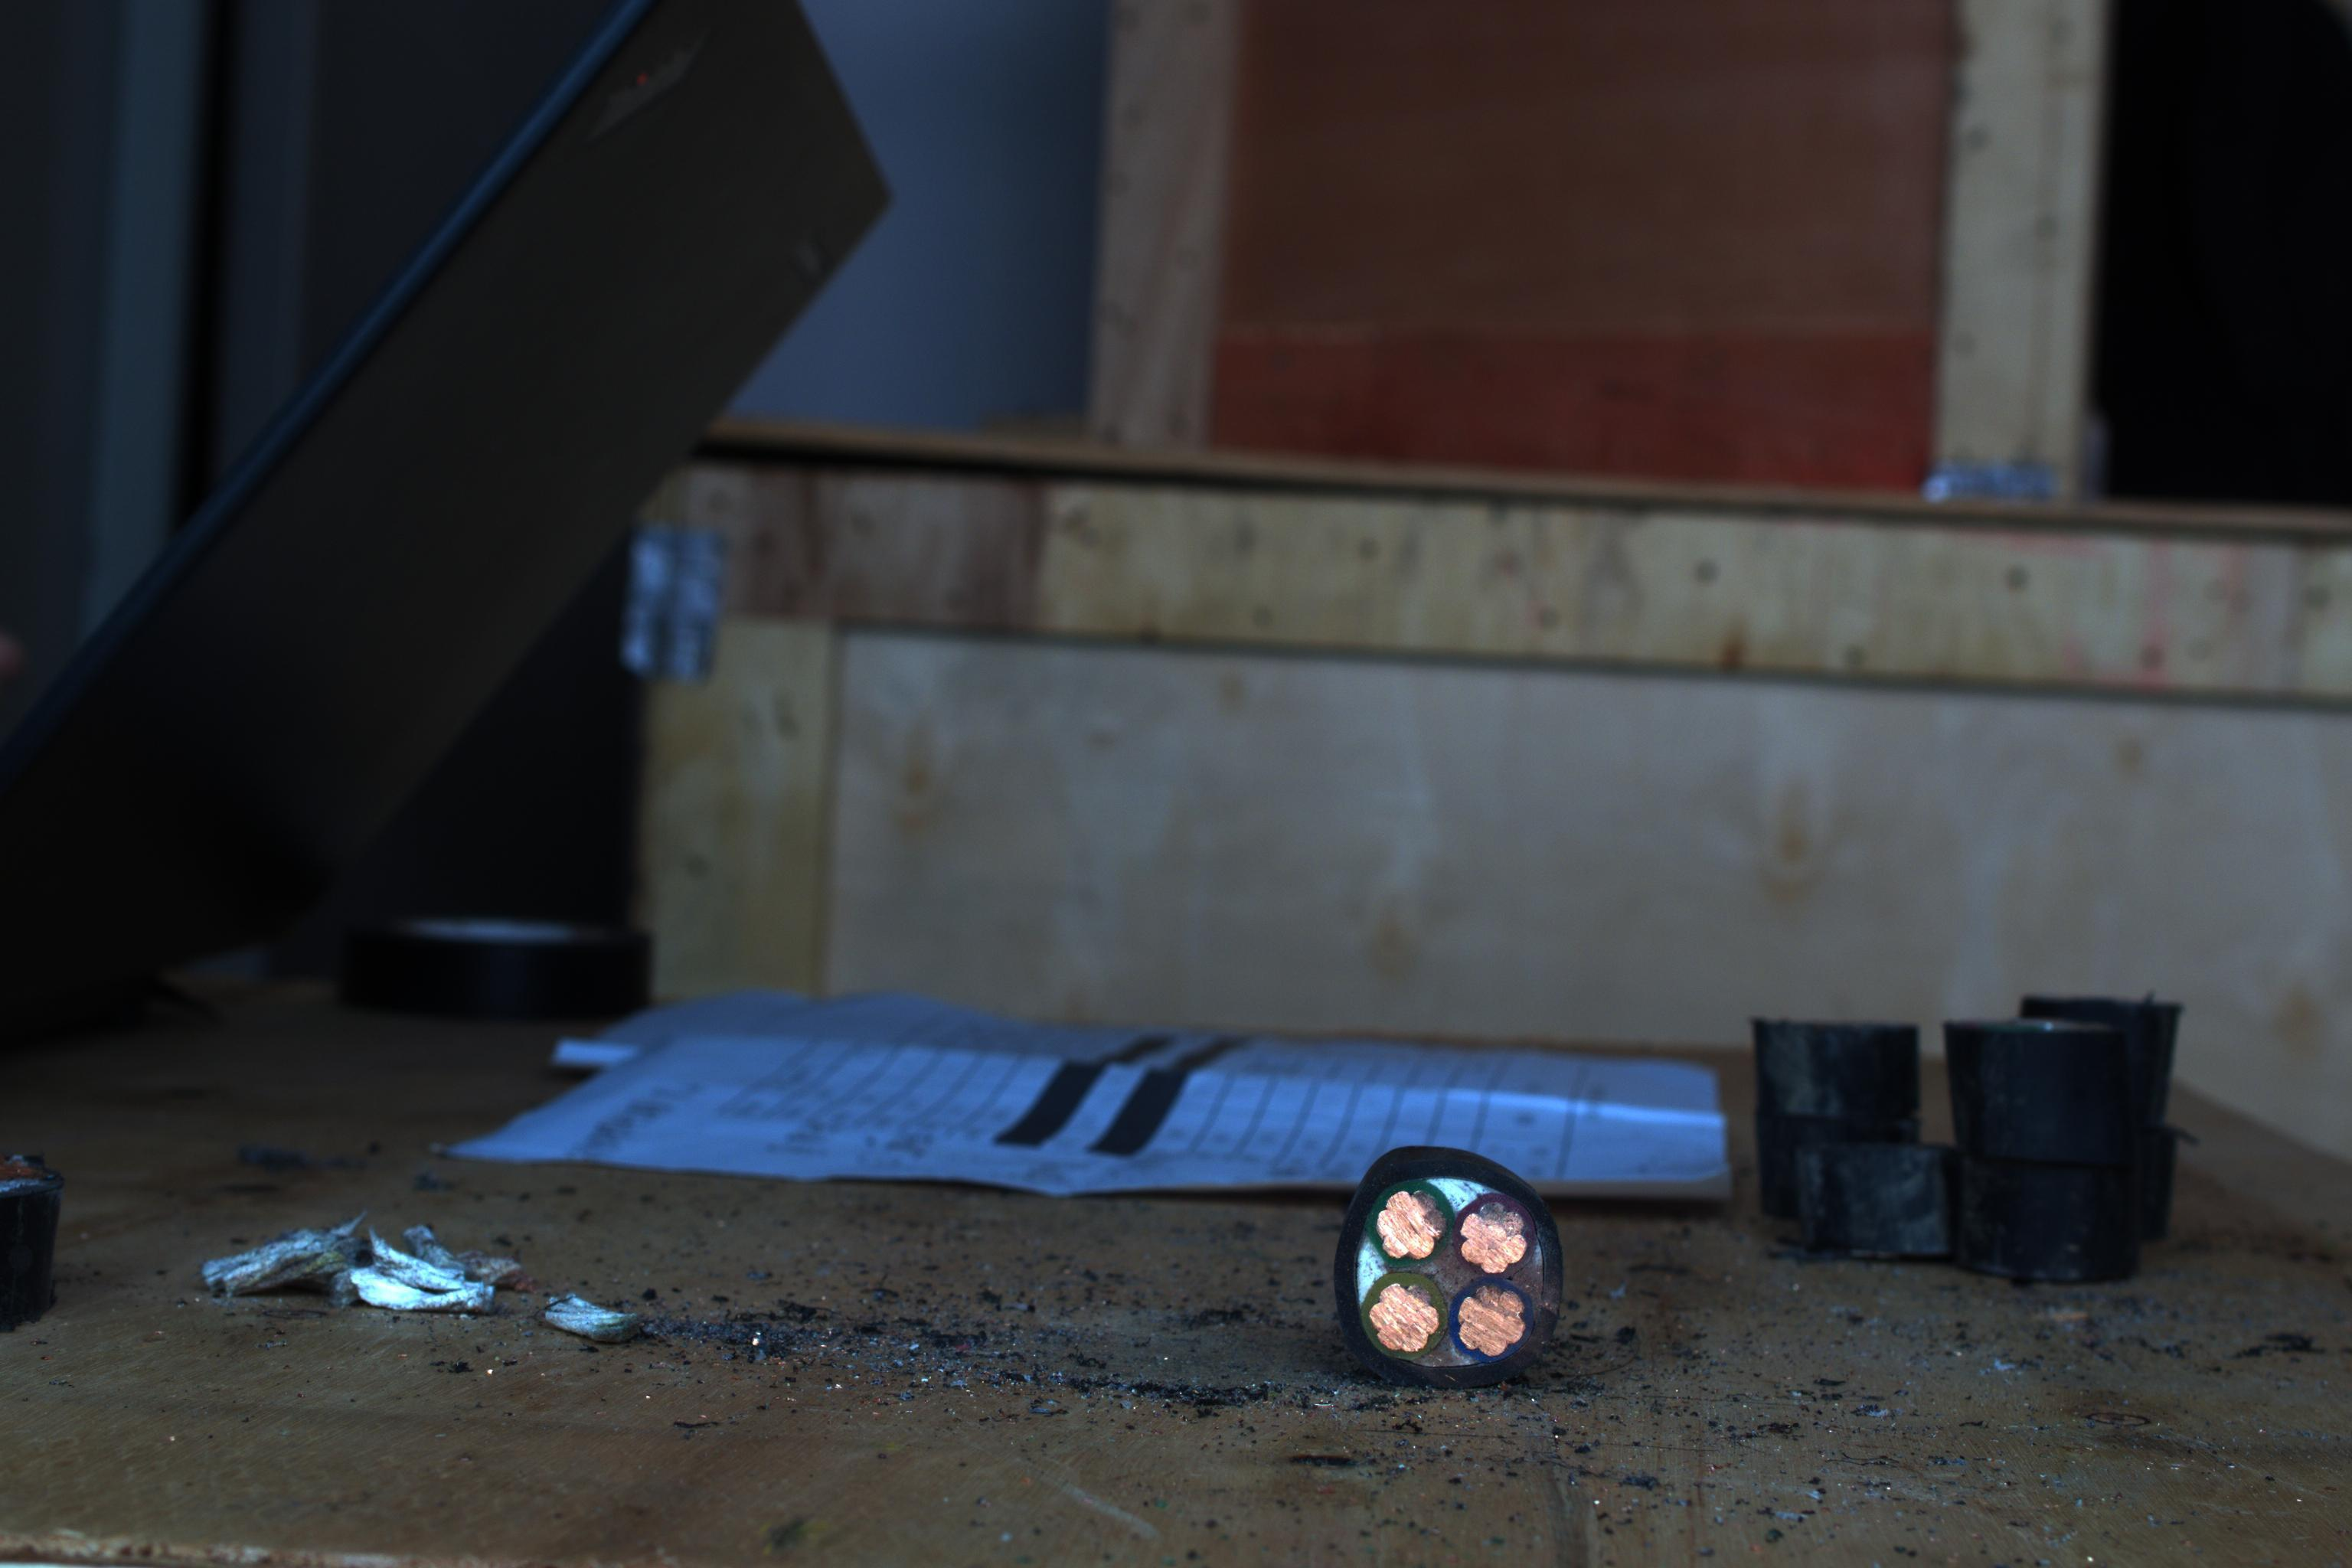YJV_0.6_1kV_4x35: (1328, 1139, 1591, 1398)
